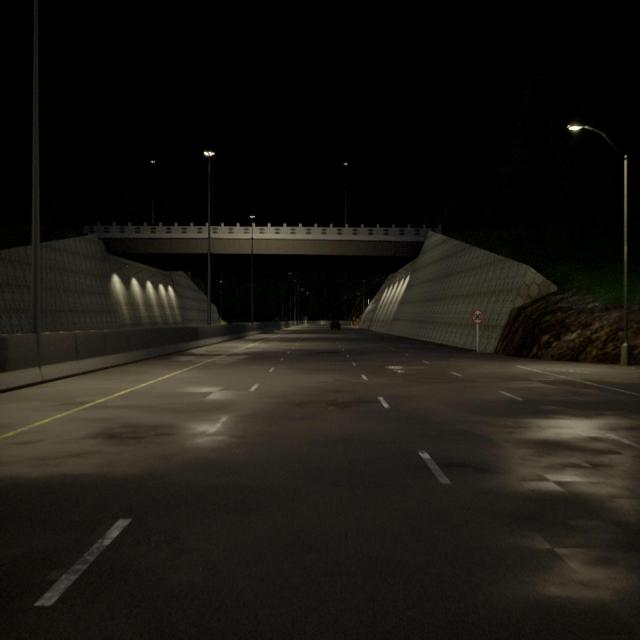Traffic_Signs: (472, 309, 483, 324)
Vehicle: (330, 320, 341, 330)
